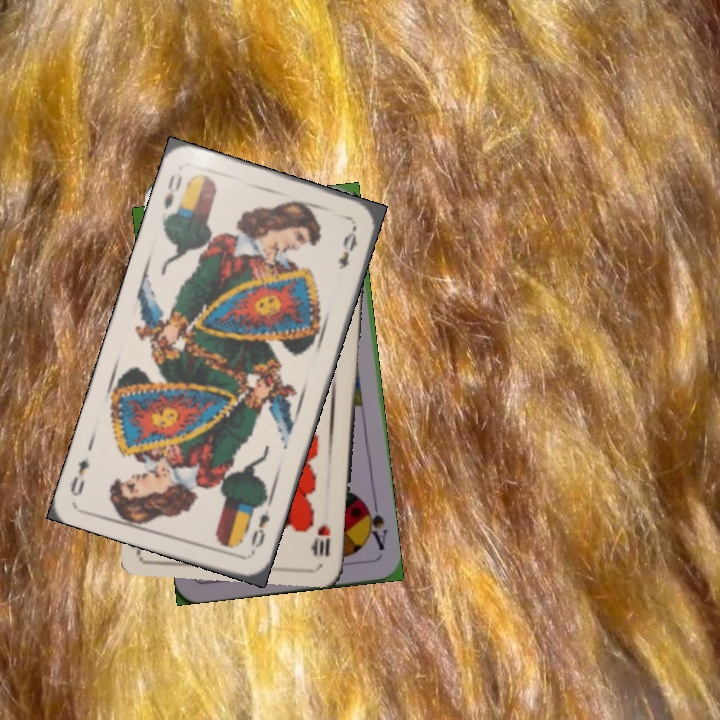EO: (246, 506, 273, 556), (159, 169, 185, 212)
H10: (312, 521, 333, 559)
SA: (359, 497, 390, 553)
